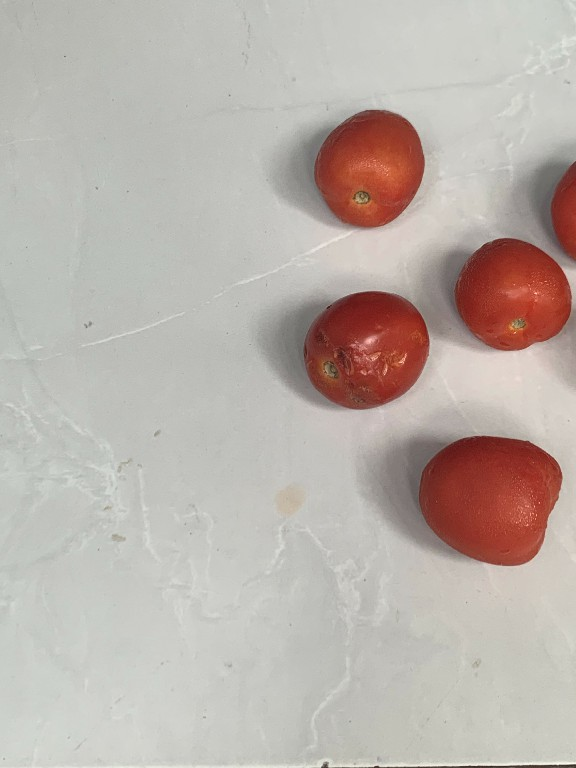NG: (292, 283, 427, 413)
OK: (415, 433, 568, 576), (310, 100, 427, 232), (452, 234, 570, 358)
